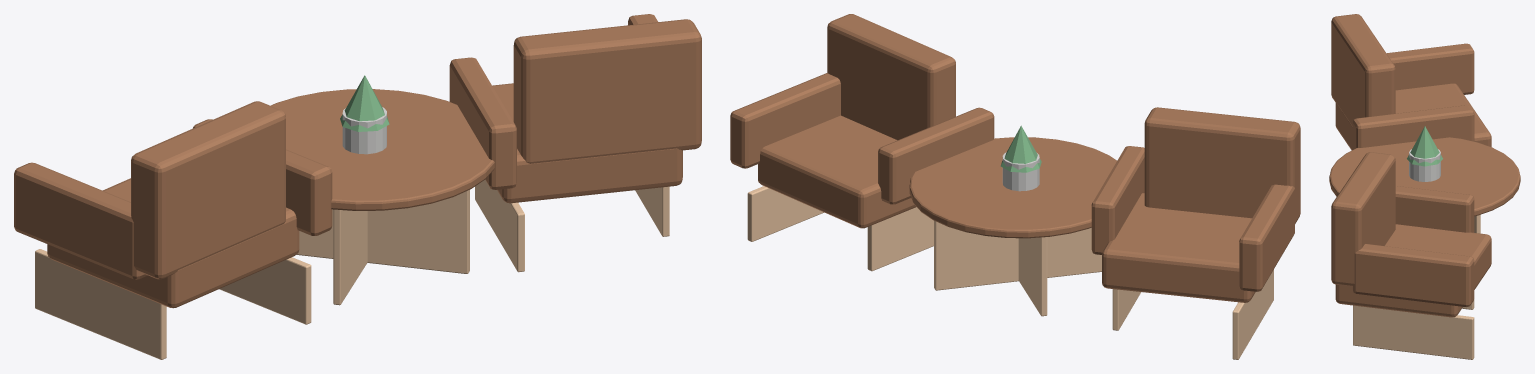
The model's file is office_lounge_seating_reference_board_46_iter_2.glb.
The picture shows the model from 3 angles, left to right: view 1: azimuth 30°, elevation 25°; view 2: azimuth 150°, elevation 25°; view 3: azimuth 270°, elevation 25°; orthographic projection. The views are drawn at different scales.
Visible parts, largest first — view 1: Cylinder; view 2: Cylinder; view 3: Cylinder.
Part boxes in pixels (box(x1,y1,x2,y2)): Cylinder: box(14, 14, 701, 359); Cylinder: box(730, 14, 1300, 359); Cylinder: box(1329, 14, 1520, 359).
Size of the model in its own units: 2.3 by 0.72 by 0.84.
